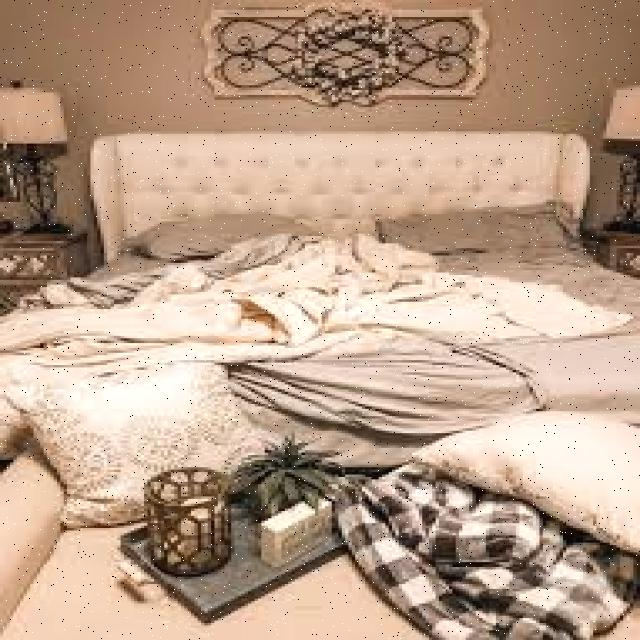bed: (6, 165, 640, 639)
